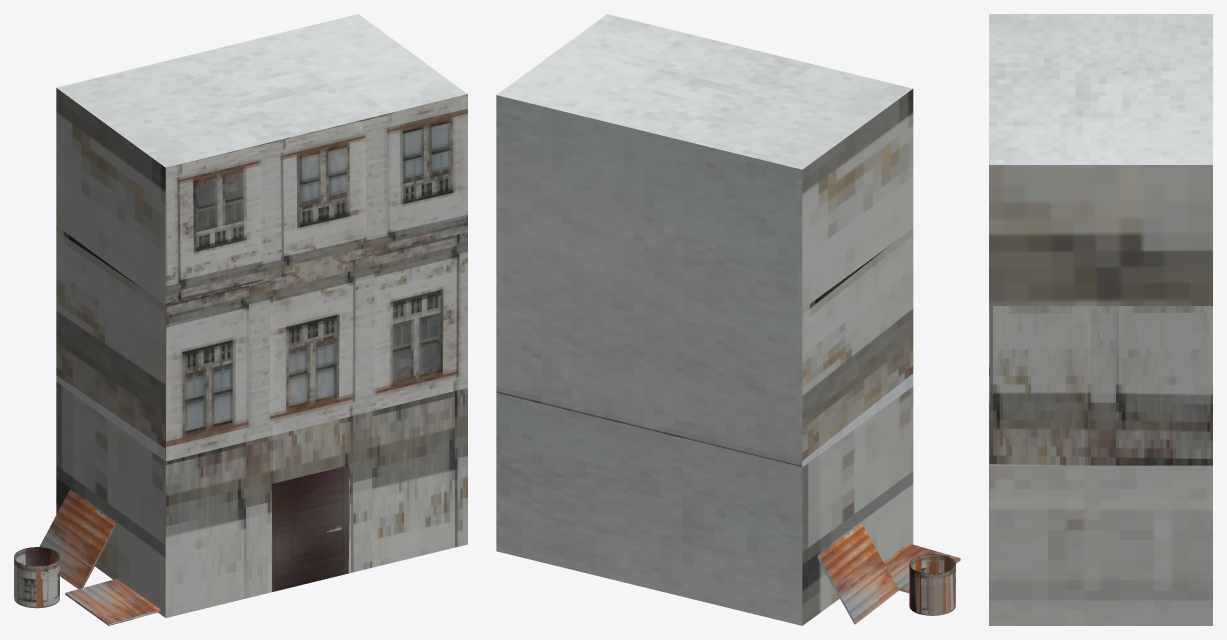
Rendered from house 9.fbx.
3 views of the same model, side by side, from view 1: azimuth 30°, elevation 25°; view 2: azimuth 150°, elevation 25°; view 3: azimuth 270°, elevation 25° (orthographic). The views are drawn at different scales.
Visible parts, largest first — view 1: Cube; view 2: Cube; view 3: Cube.
Part boxes in pixels (left/top/right/bottom): Cube: left=14, top=14, right=467, bottom=625; Cube: left=496, top=14, right=960, bottom=625; Cube: left=989, top=14, right=1212, bottom=625.
Size of the model in its own units: 2258 by 2467 by 1080.
